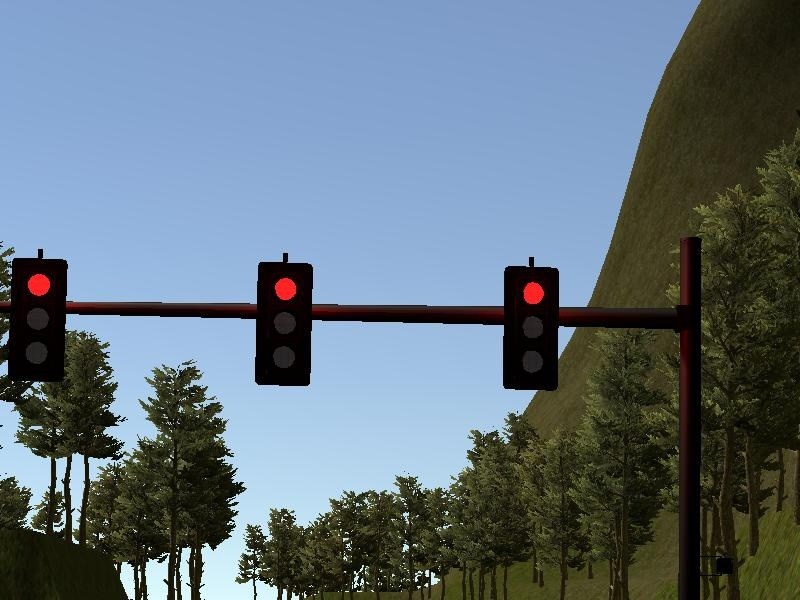red: (252, 258, 315, 388), (500, 264, 561, 393), (9, 256, 69, 384)
